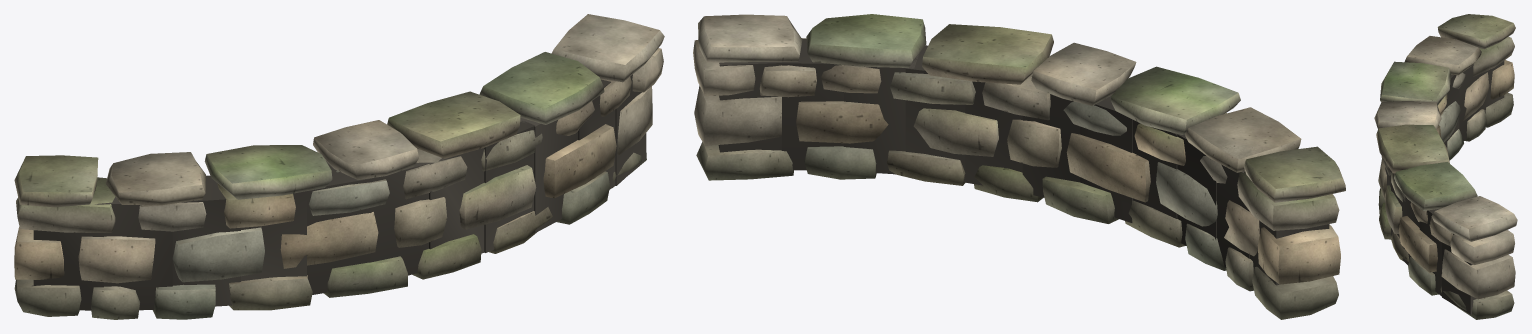
File: stone_wall_lod1.gltf
3 views of the same model, side by side, from view 1: azimuth 30°, elevation 25°; view 2: azimuth 150°, elevation 25°; view 3: azimuth 270°, elevation 25° (orthographic). The views are drawn at different scales.
Visible parts, largest first — view 1: Wall, Core; view 2: Wall, Core; view 3: Wall, Core.
Part boxes in pixels (<box>): Wall: <box>14,14,664,319</box>; Core: <box>33,74,646,310</box>; Wall: <box>693,14,1345,319</box>; Core: <box>718,39,1329,285</box>; Wall: <box>1374,14,1517,319</box>; Core: <box>1385,61,1504,314</box>.
Bounding box in the file's own units: 4.08 × 0.8365 × 1.1.
Materials: 2 (1 with a texture image).
